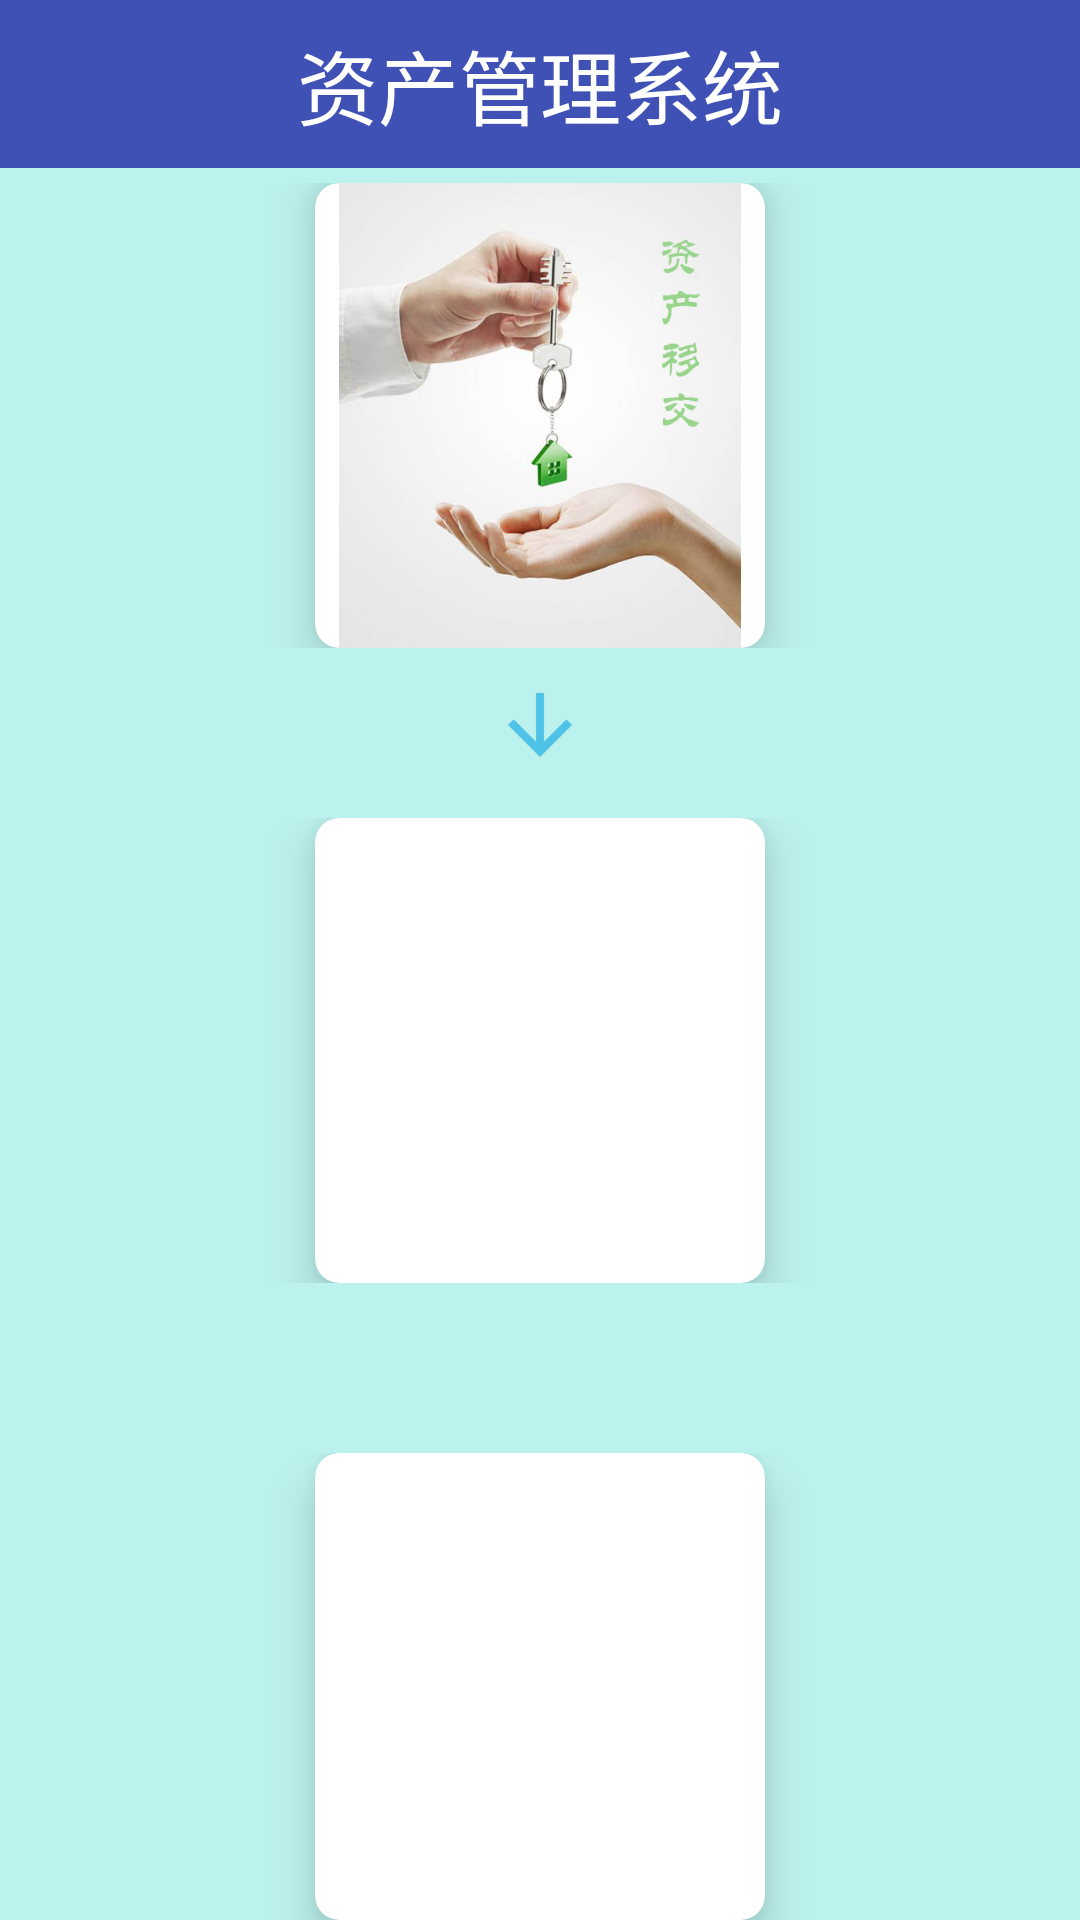

Where to tap for icons on this 1080w x 1920h app screen, as point (x, y):
down navi: point (540, 725)
